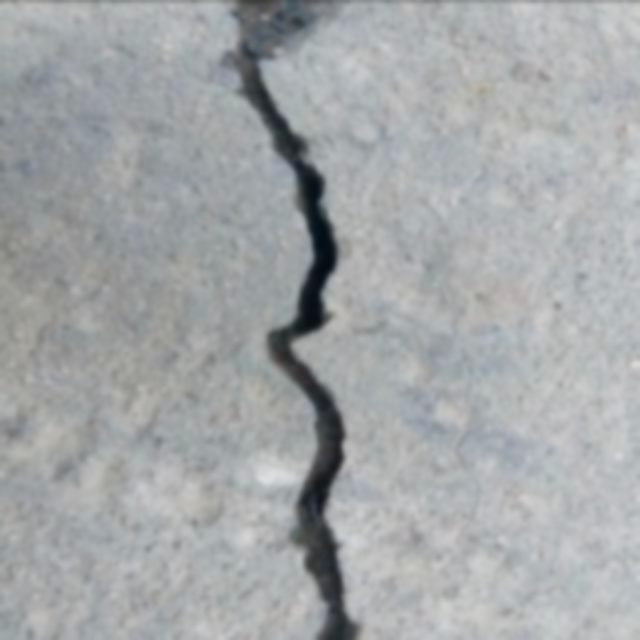SurfaceCrack: (200, 0, 410, 640)
